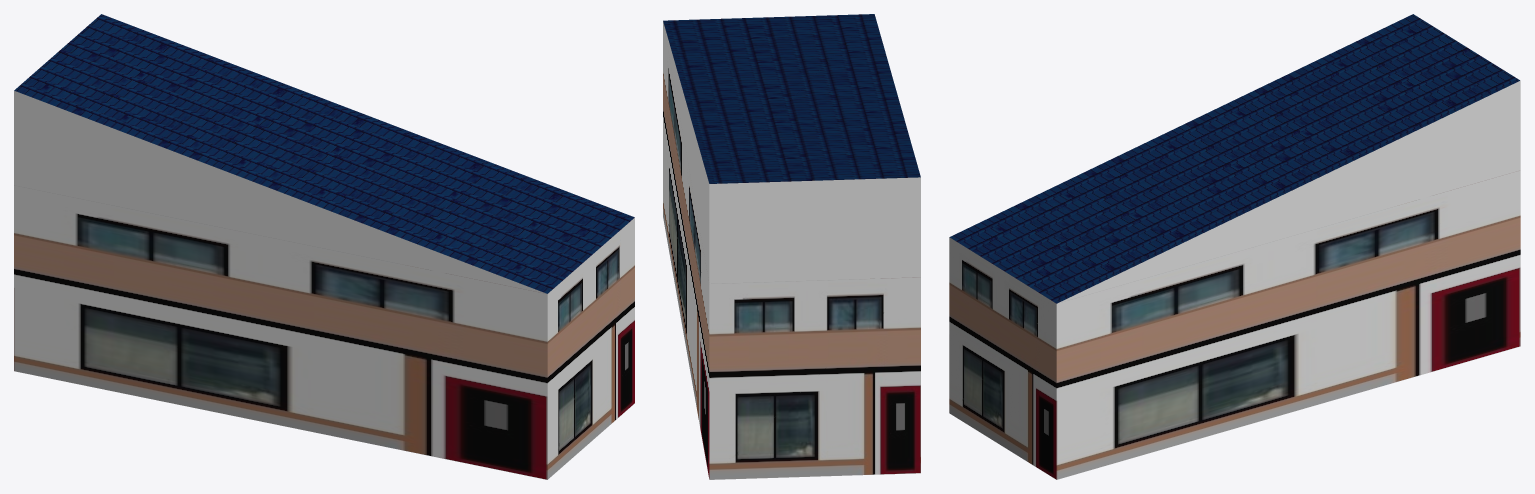
The picture shows the model from 3 angles, left to right: view 1: azimuth 30°, elevation 25°; view 2: azimuth 150°, elevation 25°; view 3: azimuth 270°, elevation 25°; orthographic projection. The views are drawn at different scales.
Visible parts, largest first — view 1: CityEngineMaterial_5_m, CityEngineMaterial_6_m, CityEngineMaterial_3_m; view 2: CityEngineMaterial_5_m, CityEngineMaterial_6_m, CityEngineMaterial_3_m; view 3: CityEngineMaterial_5_m, CityEngineMaterial_6_m, CityEngineMaterial_3_m.
Boxes of the visible parts, bbox=[...] form: CityEngineMaterial_5_m: bbox=[14, 185, 634, 479]; CityEngineMaterial_6_m: bbox=[14, 14, 634, 293]; CityEngineMaterial_3_m: bbox=[14, 90, 546, 293]; CityEngineMaterial_5_m: bbox=[663, 21, 920, 479]; CityEngineMaterial_6_m: bbox=[663, 14, 920, 183]; CityEngineMaterial_3_m: bbox=[663, 22, 920, 283]; CityEngineMaterial_5_m: bbox=[949, 170, 1520, 479]; CityEngineMaterial_6_m: bbox=[949, 14, 1519, 303]; CityEngineMaterial_3_m: bbox=[1058, 80, 1520, 303].
Bounding box in the file's own units: 22.58 × 13.99 × 27.23.
